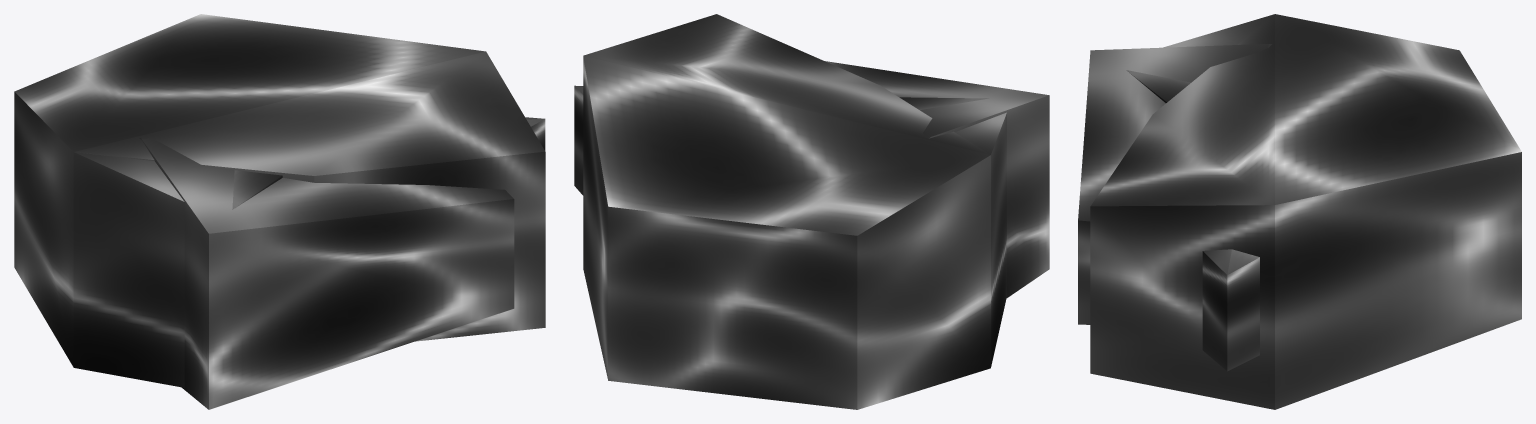
The model's file is eff_Debris01.fbx.
3 views of the same model, side by side, from view 1: azimuth 30°, elevation 25°; view 2: azimuth 150°, elevation 25°; view 3: azimuth 270°, elevation 25° (orthographic). The views are drawn at different scales.
Visible parts, largest first — view 1: eff_Debris0101_msh, eff_Debris0103_msh, eff_Debris0104_msh; view 2: eff_Debris0101_msh, eff_Debris0104_msh, eff_Debris0103_msh, eff_Debris0102_msh; view 3: eff_Debris0101_msh, eff_Debris0103_msh, eff_Debris0102_msh, eff_Debris0104_msh.
Part boxes in pixels (x1=…): eff_Debris0101_msh: x1=14, y1=14, x2=545, y2=341; eff_Debris0103_msh: x1=139, y1=138, x2=514, y2=409; eff_Debris0104_msh: x1=14, y1=92, x2=282, y2=387; eff_Debris0101_msh: x1=583, y1=14, x2=990, y2=409; eff_Debris0104_msh: x1=857, y1=97, x2=1006, y2=409; eff_Debris0103_msh: x1=825, y1=61, x2=1049, y2=297; eff_Debris0102_msh: x1=574, y1=85, x2=929, y2=195; eff_Debris0101_msh: x1=1090, y1=14, x2=1521, y2=409; eff_Debris0103_msh: x1=1078, y1=44, x2=1271, y2=324; eff_Debris0102_msh: x1=1202, y1=44, x2=1270, y2=371; eff_Debris0104_msh: x1=1126, y1=14, x2=1274, y2=102.
Size of the model in its own units: 6.89 by 3.18 by 6.25.
